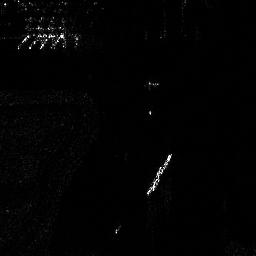ship: (145, 152, 172, 195)
